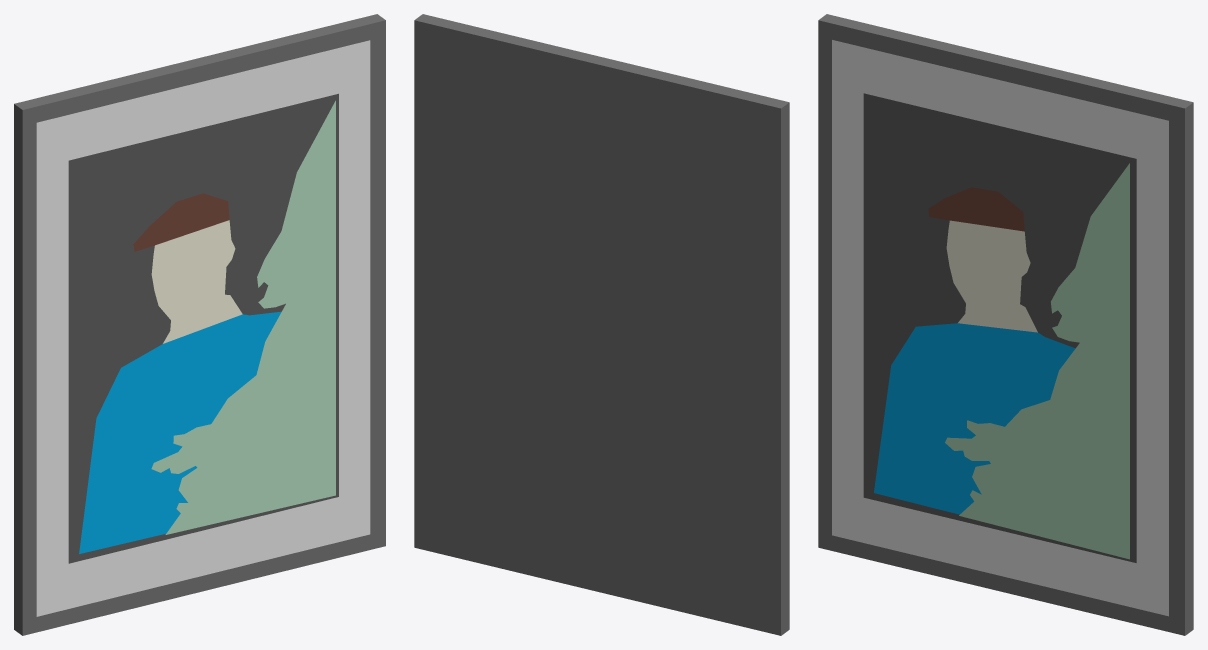
The model's file is picture_045.glb.
The picture shows the model from 3 angles, left to right: view 1: azimuth 30°, elevation 25°; view 2: azimuth 150°, elevation 25°; view 3: azimuth 330°, elevation 25°; orthographic projection.
Visible parts, largest first — view 1: picture_045; view 2: picture_045; view 3: picture_045.
Part boxes in pixels (x1=…): picture_045: x1=14, y1=14, x2=385, y2=635; picture_045: x1=414, y1=14, x2=789, y2=635; picture_045: x1=818, y1=14, x2=1193, y2=635.
Bounding box in the file's own units: 0.7492 × 1.03 × 0.0394.
1 material, 1 textured.
